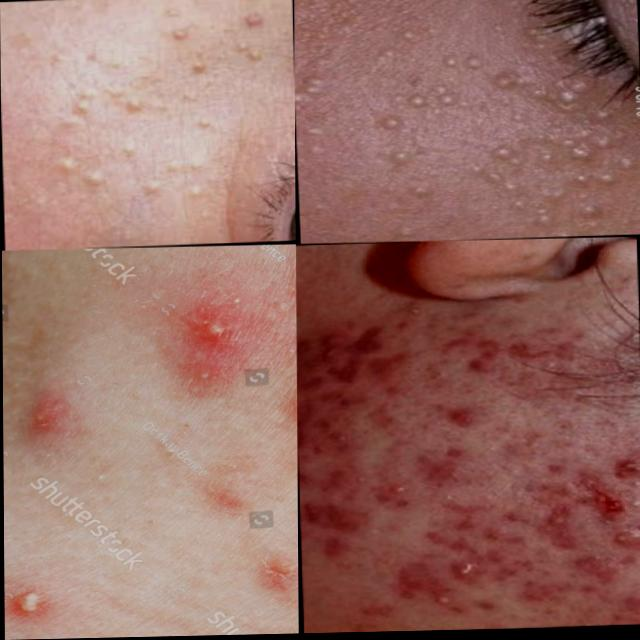7: (487, 68, 621, 129), (230, 3, 273, 75), (52, 70, 96, 139), (549, 131, 619, 164), (99, 80, 151, 123), (396, 82, 465, 111), (486, 148, 541, 183), (60, 156, 112, 189), (437, 52, 485, 73), (379, 147, 419, 171), (164, 22, 200, 48), (136, 175, 172, 199), (297, 74, 328, 98), (372, 116, 408, 135), (338, 471, 370, 492), (185, 55, 210, 80), (588, 171, 620, 189), (393, 29, 423, 46), (574, 203, 603, 219)
8: (307, 333, 353, 366)
9: (3, 575, 42, 620), (184, 320, 238, 351), (374, 480, 414, 507)
blackheads: (499, 338, 552, 373), (17, 402, 69, 435), (577, 491, 628, 521), (595, 527, 640, 557), (606, 453, 639, 485), (447, 558, 487, 583)
dark spot: (415, 365, 463, 390)
whiteheads: (390, 304, 426, 325), (417, 595, 455, 613)
